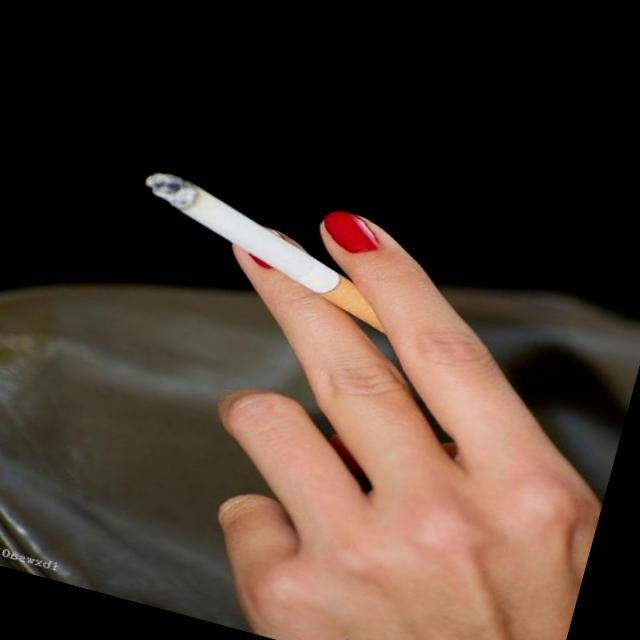smoke: (112, 156, 530, 389)
